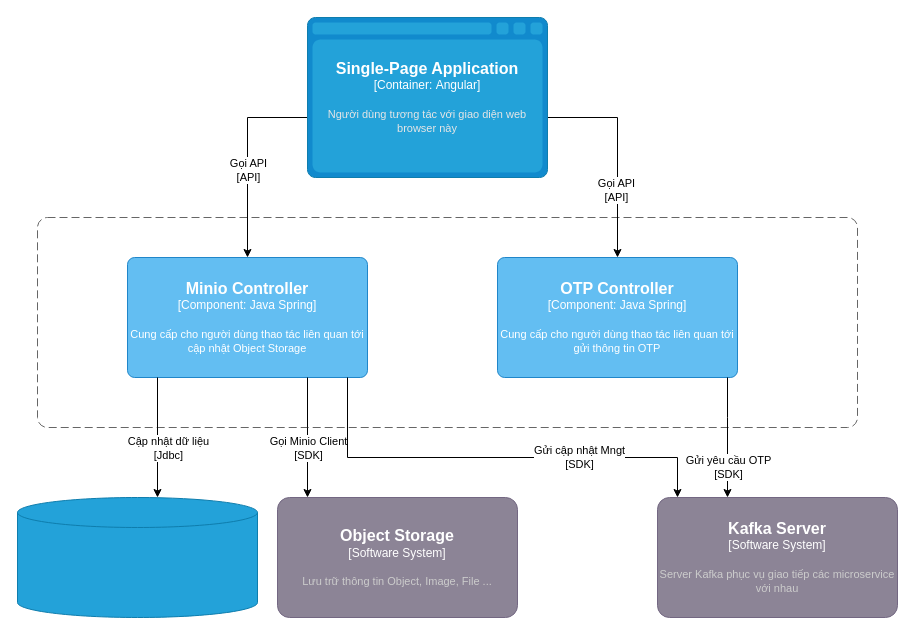
Some shapes in this 915 by 635 pixel diagram are drawn without their labels. Each missing label, with the box of its shape:
API Application [Container]: (36, 216, 858, 428)
Database [Container: MySQL] MySQL Database Schema: (16, 496, 258, 618)
